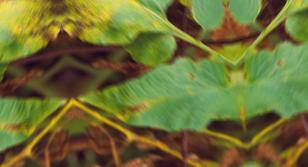Tomato Septoria leaf spot: (52, 0, 175, 54), (80, 0, 218, 22)
